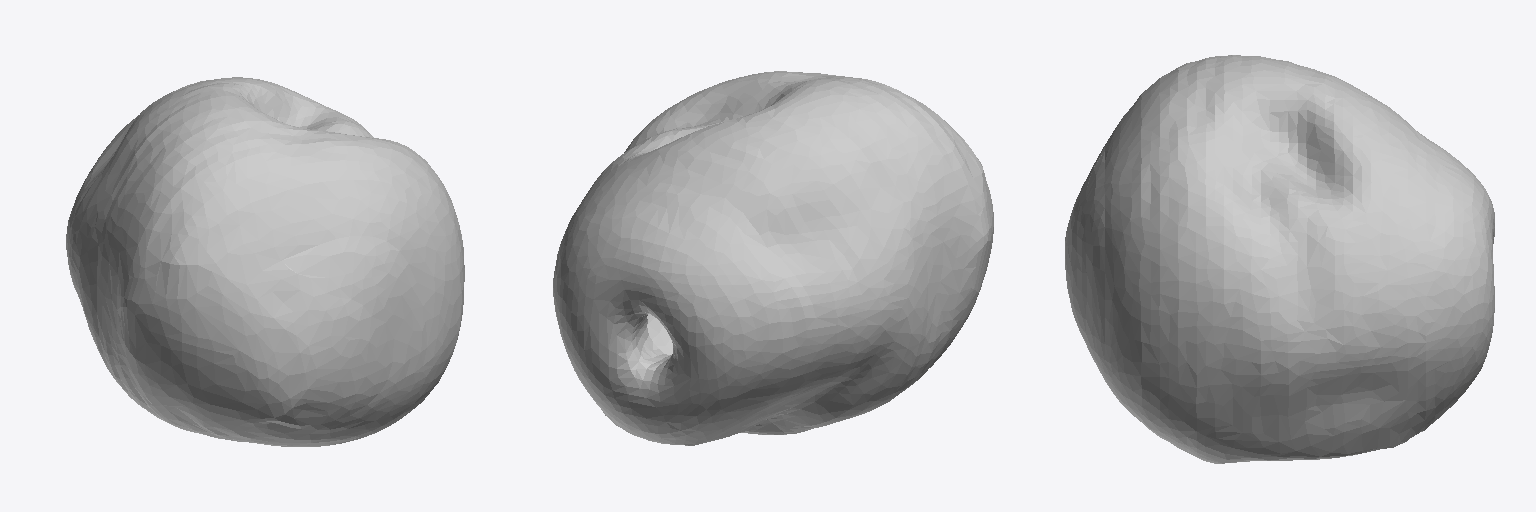
The model's file is hochet_bille_v2.obj.
3 views of the same model, side by side, from view 1: azimuth 30°, elevation 25°; view 2: azimuth 150°, elevation 25°; view 3: azimuth 270°, elevation 25° (orthographic).
Visible parts, largest first — view 1: Hochet_raw; view 2: Hochet_raw; view 3: Hochet_raw.
Boxes of the visible parts, x1=… form: Hochet_raw: x1=66, y1=77, x2=464, y2=446; Hochet_raw: x1=553, y1=71, x2=993, y2=445; Hochet_raw: x1=1065, y1=55, x2=1494, y2=463.
Size of the model in its own units: 13.17 by 12.07 by 14.07.